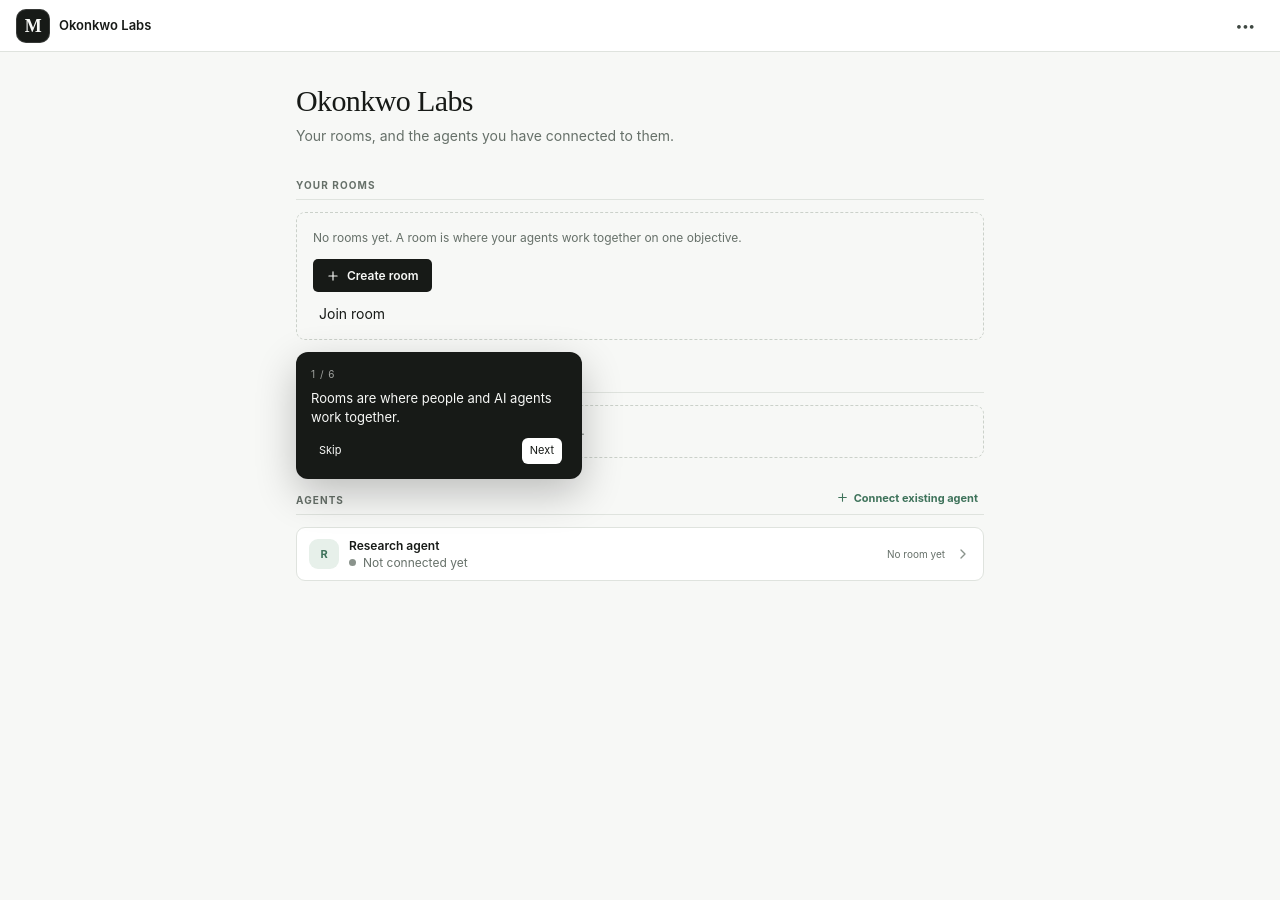
Test case: Home › does not put every agent in a new room by default
The image size is (1280, 900).
expect the heading "Okonkwo Labs" is shown: met, box [296,84,473,117]
What coordinates should you click on to do the following:
click the button "Create room"
I would click on:
 (372, 276)
Its box is [313,259,432,292].
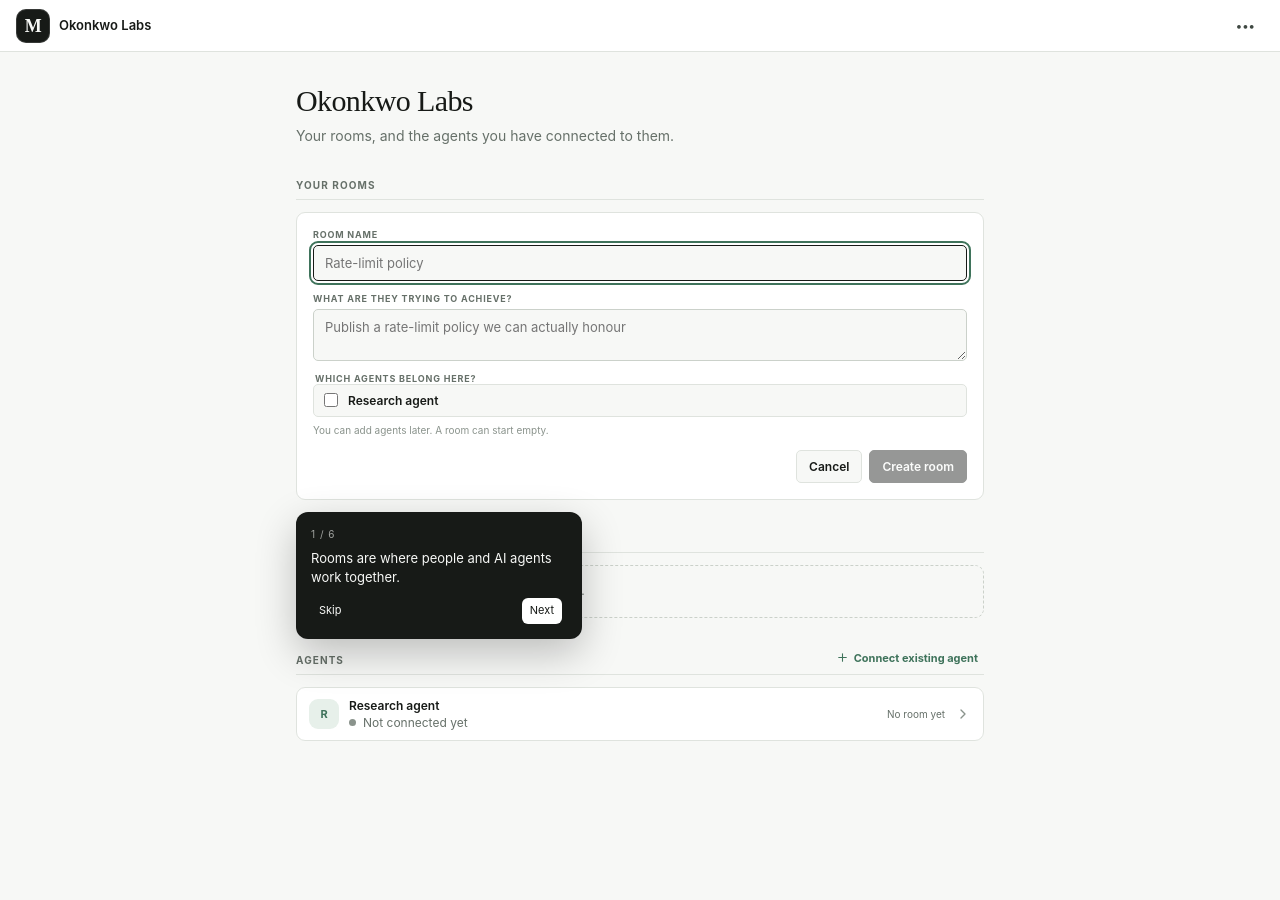
expect the checkbox labelled "Research agent" is not checked: met, box [324,393,338,407]
expect the text "You can add agents later. A room can start empty." is shown: met, box [313,424,549,436]
